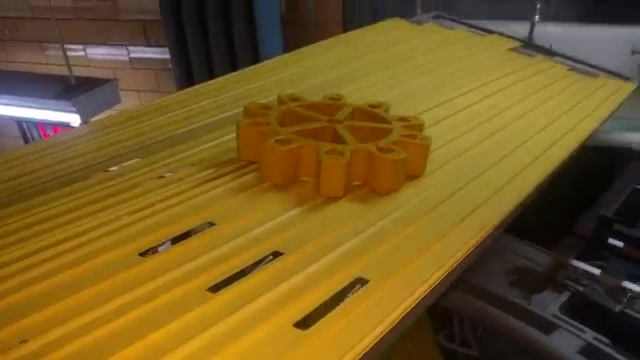gear: (228, 75, 441, 208)
